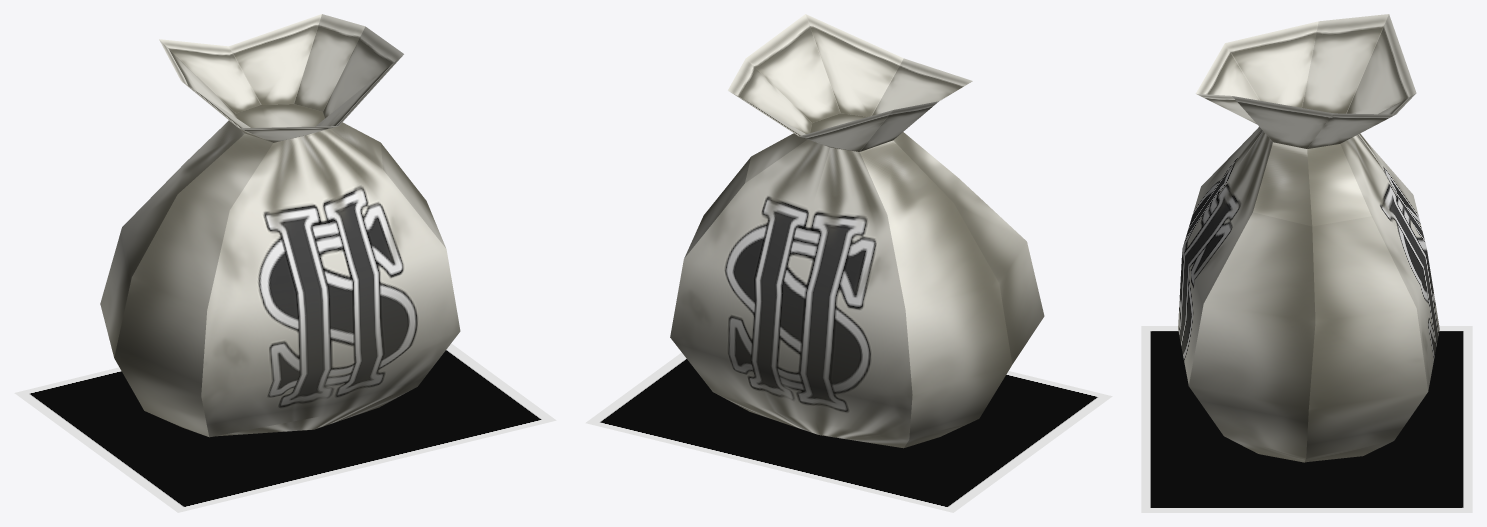
The model's file is money_bag.fbx.
3 views of the same model, side by side, from view 1: azimuth 30°, elevation 25°; view 2: azimuth 150°, elevation 25°; view 3: azimuth 270°, elevation 25° (orthographic). The views are drawn at different scales.
Visible parts, largest first — view 1: MoneyBagBase, MonetBagShadoww, MoneyBagTop; view 2: MoneyBagBase, MonetBagShadoww, MoneyBagTop; view 3: MoneyBagBase, MonetBagShadoww, MoneyBagTop.
Part boxes in pixels (x1,y1,x2,y2): MoneyBagBase: (100,104,460,437); MonetBagShadoww: (14,343,556,512); MoneyBagTop: (159,14,403,142); MoneyBagBase: (670,113,1044,448); MonetBagShadoww: (585,352,1112,512); MoneyBagTop: (728,14,972,151); MoneyBagBase: (1178,127,1439,462); MonetBagShadoww: (1141,326,1472,512); MoneyBagTop: (1196,14,1416,148).
Size of what is drawn, in the model's own units: 176 by 160 by 132.
2 materials, 2 textured.
